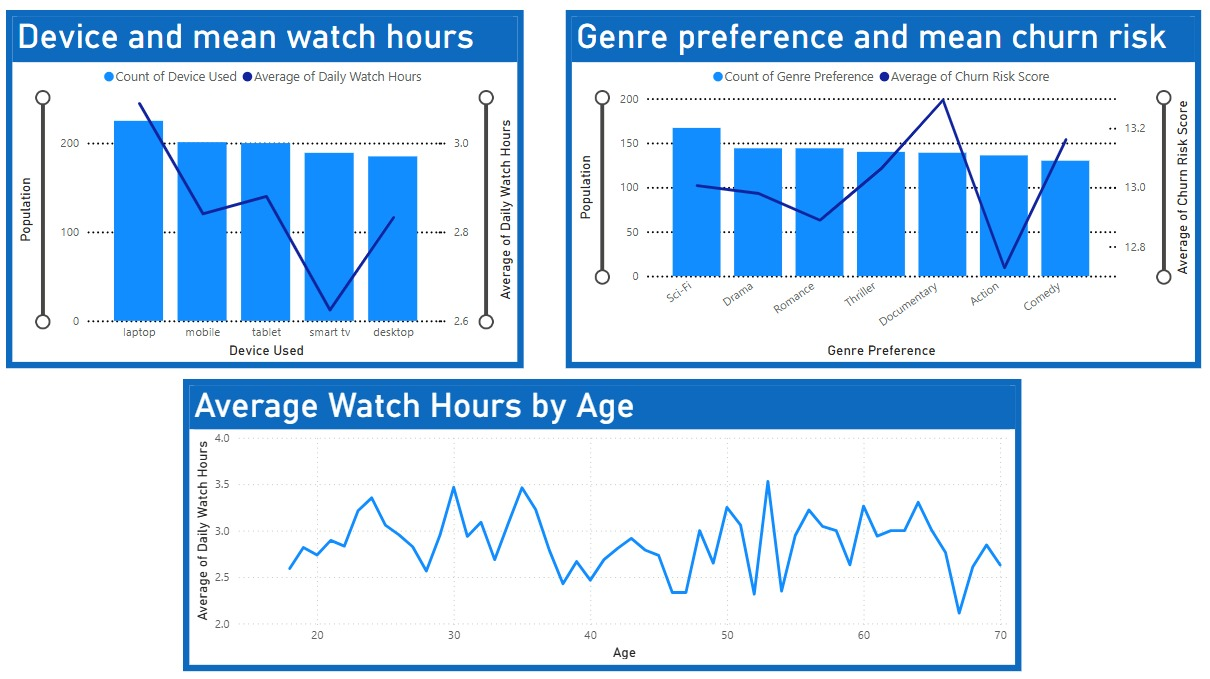

This screenshot's page, from the dashboard's own definition file:
{"tool":"powerbi","page":{"name":"Behavioural Insights","canvas":[1280,720],"ordinal":3},"visuals":[{"type":"lineClusteredColumnComboChart","title":"Device and mean watch hours","fields":{"Category":["complete_sql_dataset 1.Device Used"],"Y":["CountNonNull(complete_sql_dataset 1.Device Used)"],"Y2":["Avg(complete_sql_dataset 1.Daily Watch Hours)"]},"box":[12.2,12.2,543.5,376.3],"z":0},{"type":"lineClusteredColumnComboChart","title":"Genre preference and mean churn risk","fields":{"Category":["complete_sql_dataset 1.Genre Preference"],"Y":["CountNonNull(complete_sql_dataset 1.Genre Preference)"],"Y2":["Avg(complete_sql_dataset 1.Churn Risk Score)"]},"box":[599.2,12.2,667.2,376.3],"z":1000},{"type":"lineChart","title":"Average Watch Hours by Age","fields":{"Category":["complete_sql_dataset 1.Age"],"Y":["Avg(complete_sql_dataset 1.Daily Watch Hours)"]},"box":[198.6,400.7,879.7,306.6],"z":2000}]}

Visuals, with their boxes in screenshot pixels (x1, y1, x2, y2), scaled from the page's 1280x720 canvas onto the 1210x679 screenshot:
"Device and mean watch hours" lineClusteredColumnComboChart: (left=12, top=12, right=525, bottom=366)
"Genre preference and mean churn risk" lineClusteredColumnComboChart: (left=566, top=12, right=1197, bottom=366)
"Average Watch Hours by Age" lineChart: (left=188, top=378, right=1019, bottom=667)
